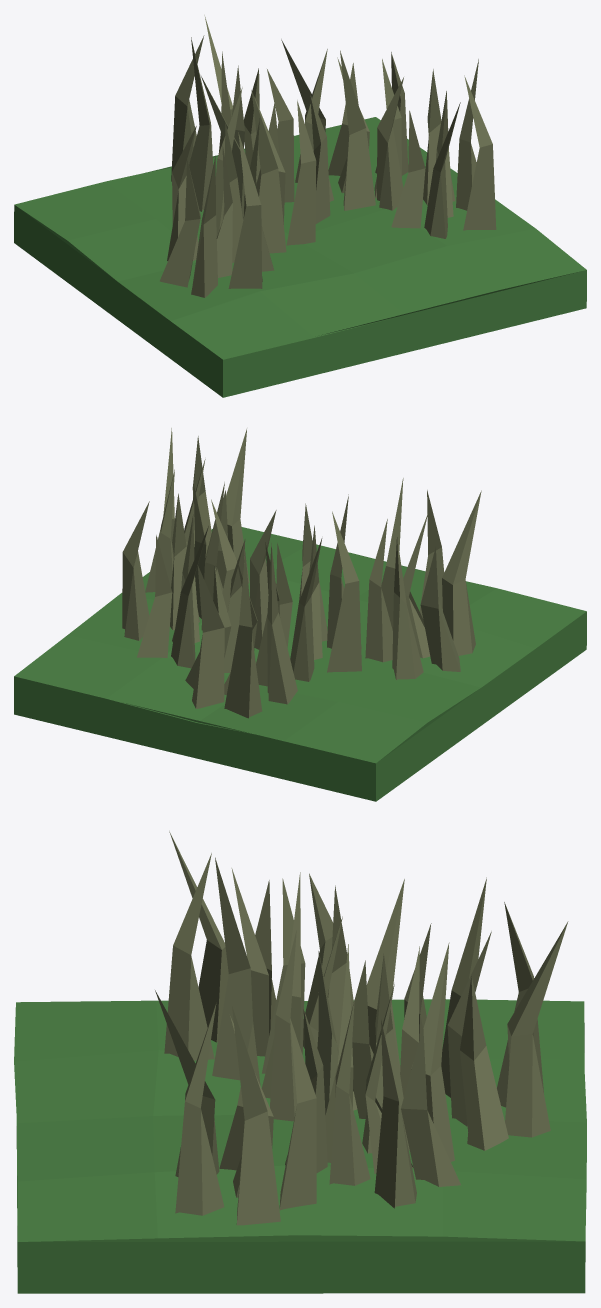
The model's file is Grass02.fbx.
The picture shows the model from 3 angles, top to bottom: view 1: azimuth 30°, elevation 25°; view 2: azimuth 150°, elevation 25°; view 3: azimuth 270°, elevation 25°; orthographic projection. The views are drawn at different scales.
Visible parts, largest first — view 1: Cube, Grass.004, Grass.003, Grass.002, Grass.001, Grass; view 2: Cube, Grass.003, Grass.001, Grass.002, Grass, Grass.004; view 3: Cube, Grass.004, Grass, Grass.001, Grass.003, Grass.002.
Part boxes in pixels (x1=…): Cube: x1=14, y1=117, x2=586, y2=397; Grass.004: x1=377, y1=59, x2=496, y2=238; Grass.003: x1=160, y1=118, x2=274, y2=297; Grass.002: x1=200, y1=75, x2=330, y2=253; Grass.001: x1=171, y1=15, x2=294, y2=211; Grass: x1=281, y1=39, x2=408, y2=210; Cube: x1=14, y1=527, x2=586, y2=801; Grass.003: x1=365, y1=478, x2=481, y2=680; Grass.001: x1=185, y1=539, x2=297, y2=718; Grass.002: x1=250, y1=494, x2=361, y2=681; Grass: x1=122, y1=482, x2=236, y2=668; Grass.004: x1=145, y1=428, x2=249, y2=618; Cube: x1=14, y1=999, x2=586, y2=1293; Grass.004: x1=155, y1=990, x2=327, y2=1225; Grass: x1=325, y1=942, x2=460, y2=1208; Grass.001: x1=400, y1=877, x2=568, y2=1150; Grass.003: x1=164, y1=831, x2=333, y2=1080; Grass.002: x1=261, y1=872, x2=404, y2=1121.
Bounding box in the file's own units: 201 × 105 × 202.
